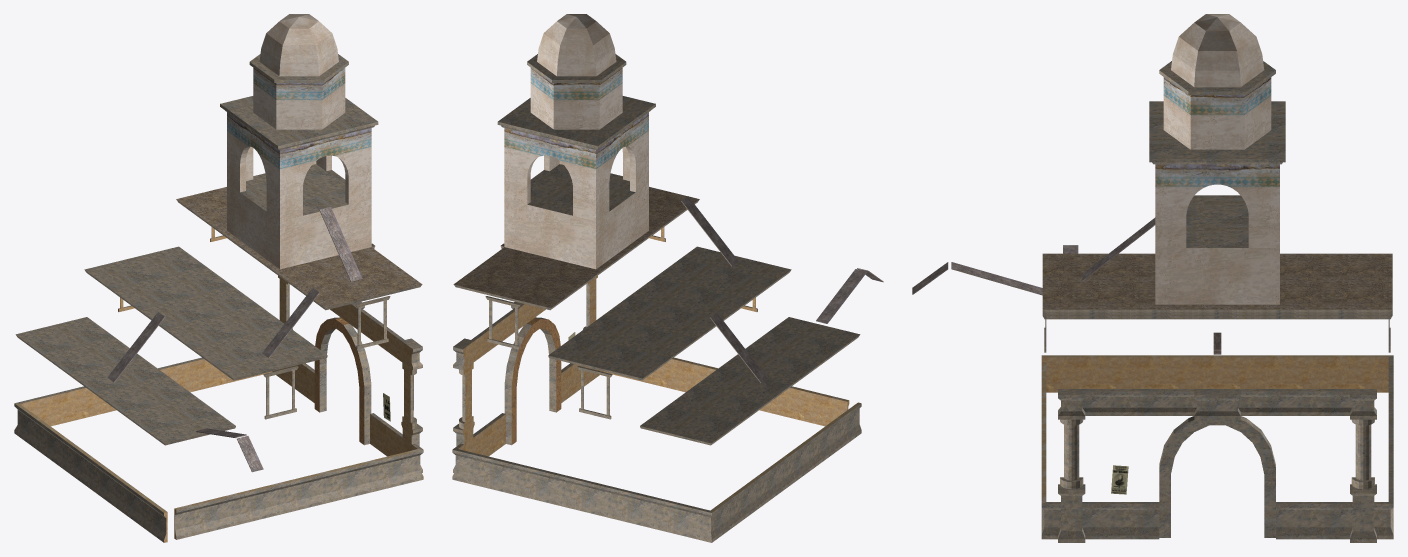
The model's file is StaticMesh1.fbx.
The picture shows the model from 3 angles, left to right: view 1: azimuth 30°, elevation 25°; view 2: azimuth 150°, elevation 25°; view 3: azimuth 270°, elevation 25°; orthographic projection. The views are drawn at different scales.
Visible parts, largest first — view 1: StaticMesh1; view 2: StaticMesh1; view 3: StaticMesh1.
Boxes of the visible parts, x1,y1,x2,y2 form: StaticMesh1: (14,14,423,542); StaticMesh1: (452,14,883,542); StaticMesh1: (912,14,1393,542).
Bounding box in the file's own units: 79400 × 112000 × 98959.
